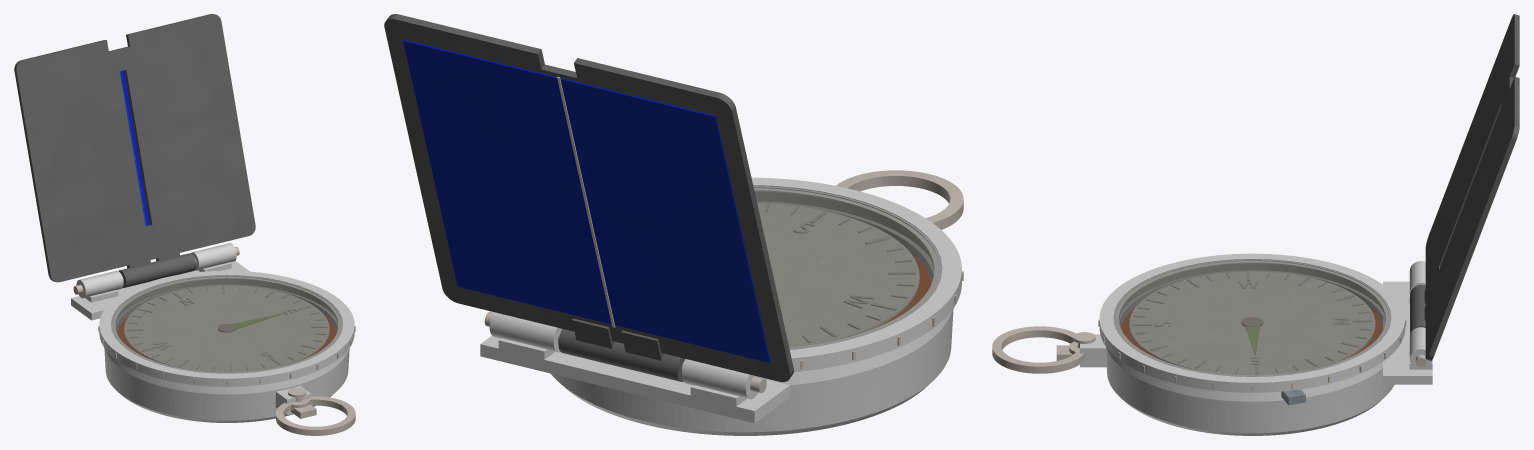
The model's file is pictureX_0611_compass__0109.glb.
3 renders of one model, left to right at view 1: azimuth 30°, elevation 25°; view 2: azimuth 150°, elevation 25°; view 3: azimuth 270°, elevation 25°, orthographic. The views are drawn at different scales.
Visible parts, largest first — view 1: cover::cover_panel, bezel::glass_lens, dial_card::card_disk, bezel::bezel_ring, case::case_shell, hanging_ring::ring_loop, cover::cover_knuckle, case::hinge_bridge, case::hinge_knuckle_0, cover::mirror_face, case::hinge_knuckle_1, case::dial_face (+1 smaller); view 2: cover::mirror_face, cover::cover_panel, bezel::glass_lens, case::case_shell, dial_card::card_disk, bezel::bezel_ring, case::hinge_bridge, hanging_ring::ring_loop, cover::cover_knuckle, case::hinge_knuckle_0, case::hinge_knuckle_1, cover::sight_line (+2 smaller); view 3: bezel::glass_lens, dial_card::card_disk, cover::cover_panel, case::case_shell, bezel::bezel_ring, hanging_ring::ring_loop, case::hinge_bridge, case::ring_lug, cover::cover_knuckle, case::hinge_knuckle_1, case::dial_face.
Boxes of the visible parts, bbox=[...] form: cover::cover_panel: bbox=[14, 14, 255, 282]; bezel::glass_lens: bbox=[111, 275, 342, 373]; dial_card::card_disk: bbox=[124, 286, 329, 371]; bezel::bezel_ring: bbox=[99, 270, 354, 386]; case::case_shell: bbox=[104, 285, 349, 422]; hanging_ring::ring_loop: bbox=[276, 396, 355, 435]; cover::cover_knuckle: bbox=[119, 253, 196, 288]; case::hinge_bridge: bbox=[71, 261, 249, 320]; case::hinge_knuckle_0: bbox=[76, 270, 123, 298]; cover::mirror_face: bbox=[120, 70, 150, 225]; case::hinge_knuckle_1: bbox=[191, 243, 236, 270]; case::dial_face: bbox=[117, 317, 336, 357]; cover::mirror_face: bbox=[403, 39, 770, 362]; cover::cover_panel: bbox=[384, 14, 793, 382]; bezel::glass_lens: bbox=[753, 185, 942, 349]; case::case_shell: bbox=[551, 201, 953, 435]; dial_card::card_disk: bbox=[757, 203, 919, 347]; bezel::bezel_ring: bbox=[751, 177, 961, 372]; case::hinge_bridge: bbox=[480, 336, 789, 423]; hanging_ring::ring_loop: bbox=[836, 170, 963, 229]; cover::cover_knuckle: bbox=[558, 329, 685, 381]; case::hinge_knuckle_0: bbox=[682, 359, 761, 399]; case::hinge_knuckle_1: bbox=[489, 312, 561, 352]; cover::sight_line: bbox=[557, 76, 615, 327]; bezel::glass_lens: bbox=[1113, 259, 1391, 376]; dial_card::card_disk: bbox=[1129, 271, 1374, 374]; cover::cover_panel: bbox=[1424, 14, 1519, 360]; case::case_shell: bbox=[1106, 270, 1394, 435]; bezel::bezel_ring: bbox=[1099, 253, 1405, 392]; hanging_ring::ring_loop: bbox=[992, 326, 1084, 373]; case::hinge_bridge: bbox=[1383, 281, 1432, 384]; case::ring_lug: bbox=[1080, 334, 1107, 367]; cover::cover_knuckle: bbox=[1410, 285, 1425, 334]; case::hinge_knuckle_1: bbox=[1409, 327, 1432, 369]; case::dial_face: bbox=[1121, 308, 1382, 357].
Bounding box in the file's own units: 0.0867 × 0.0925 × 0.1444.
Materials: 50 (7 with a texture image).
